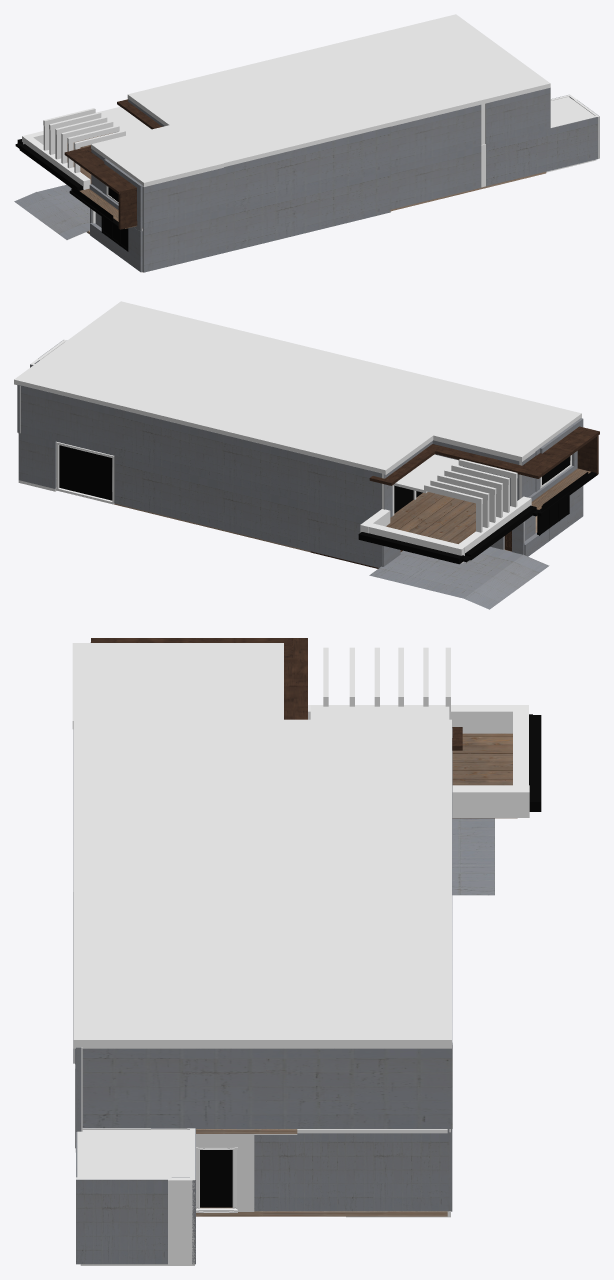
File: modern-house.glb
3 renders of one model, top to bottom at view 1: azimuth 30°, elevation 25°; view 2: azimuth 150°, elevation 25°; view 3: azimuth 270°, elevation 25°, orthographic. The views are drawn at different scales.
Parts seen in each view (by area): view 1: Object_12, Object_4, Object_22, Object_7, Object_2, Object_13, Object_10, Object_8; view 2: Object_12, Object_4, Object_13, Object_10, Object_22, Object_2, Object_7; view 3: Object_12, Object_4, Object_2, Object_22, Object_10, Object_8, Object_13, Object_7.
Part boxes in pixels (x1=…): Object_12: x1=43, y1=14, x2=599, y2=230; Object_4: x1=14, y1=87, x2=599, y2=272; Object_22: x1=64, y1=99, x2=162, y2=229; Object_7: x1=15, y1=139, x2=128, y2=251; Object_2: x1=22, y1=95, x2=596, y2=223; Object_13: x1=72, y1=186, x2=127, y2=247; Object_10: x1=67, y1=133, x2=136, y2=228; Object_8: x1=86, y1=172, x2=546, y2=272; Object_12: x1=14, y1=301, x2=581, y2=532; Object_4: x1=17, y1=340, x2=583, y2=609; Object_13: x1=59, y1=445, x2=588, y2=531; Object_10: x1=386, y1=468, x2=590, y2=543; Object_22: x1=369, y1=426, x2=599, y2=485; Object_2: x1=18, y1=358, x2=571, y2=563; Object_7: x1=358, y1=472, x2=597, y2=564; Object_12: x1=72, y1=643, x2=452, y2=1263; Object_4: x1=73, y1=727, x2=494, y2=1264; Object_2: x1=80, y1=705, x2=529, y2=1265; Object_22: x1=90, y1=638, x2=462, y2=750; Object_10: x1=452, y1=733, x2=517, y2=818; Object_8: x1=196, y1=1129, x2=447, y2=1216; Object_13: x1=200, y1=1150, x2=232, y2=1207; Object_7: x1=529, y1=714, x2=541, y2=811.
Bounding box in the file's own units: 5161 × 927 × 2178.
9 materials, 5 textured.
